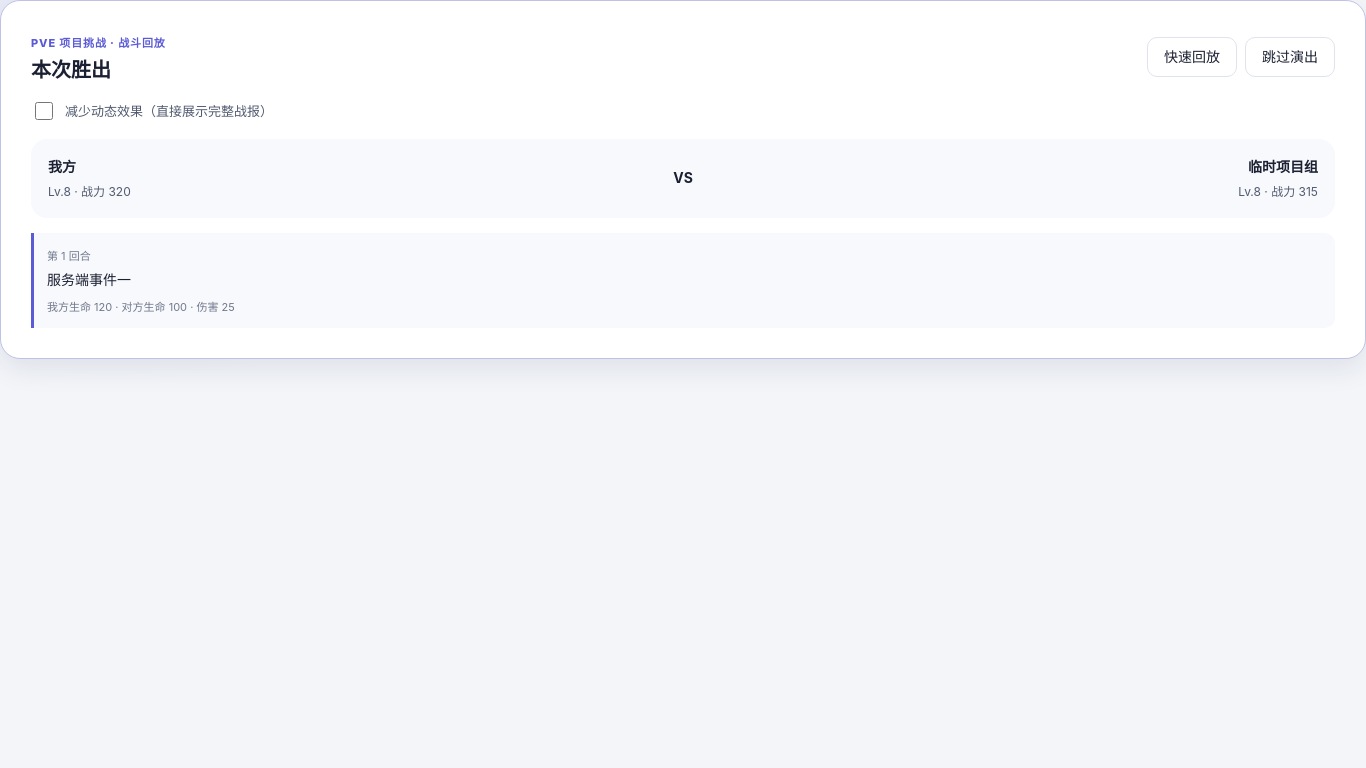
Test: ServerBattleReplay › renders the complete battle events without internal audit data
Step 1. Click the checkbox labelled "减少动态效果（直接展示完整战报）" → point(44, 111), box [35, 102, 53, 120]
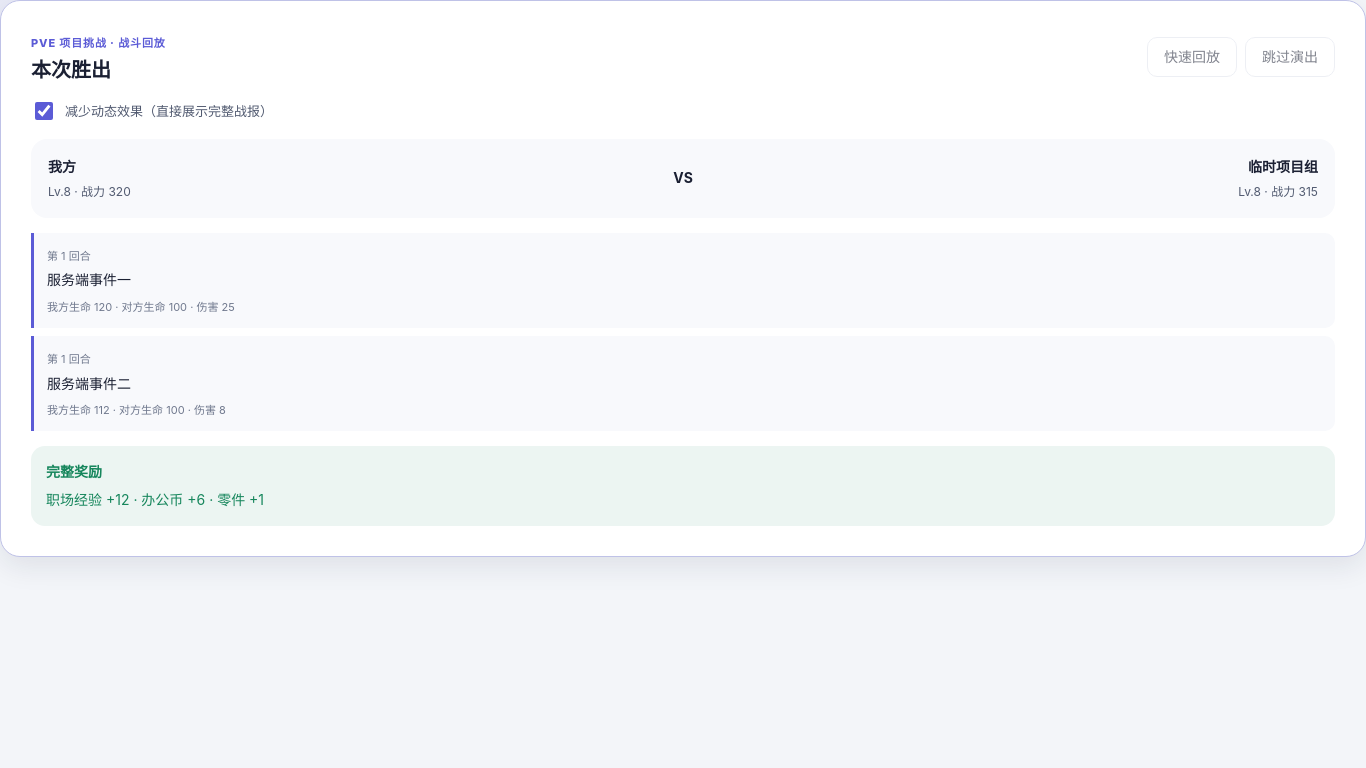
Expected: the list item "第 1 回合 服务端事件一 我方生命 120 · 对方生命 100 · 伤害 25" is shown, [31, 233, 1335, 328]
Result: the number of list items is 2 at [31, 233, 1335, 328]; [31, 336, 1335, 431]
Result: the list item "第 1 回合 服务端事件二 我方生命 112 · 对方生命 100 · 伤害 8" is shown at [31, 336, 1335, 431]
